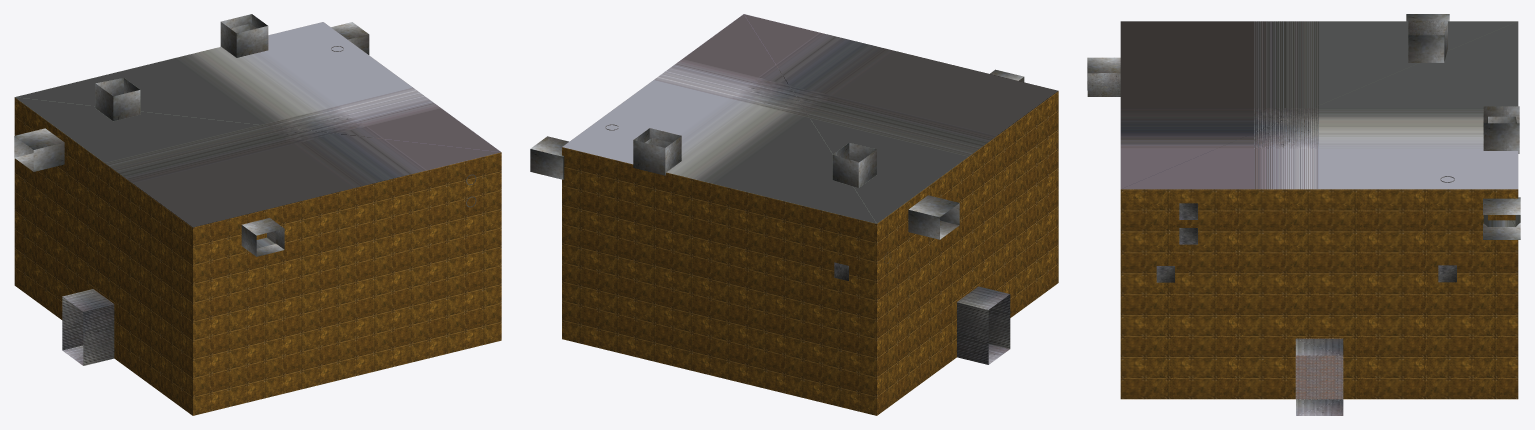
The model's file is room_1.fbx.
3 renders of one model, left to right at view 1: azimuth 30°, elevation 25°; view 2: azimuth 150°, elevation 25°; view 3: azimuth 270°, elevation 25°, orthographic. The views are drawn at different scales.
Visible parts, largest first — view 1: Plane.002, Plane.004, Plane.001, Plane.003; view 2: Plane.002, Plane.004, Plane.001, Plane.003; view 3: Plane.002, Plane.004, Plane.001, Floor1, Plane.005.
Boxes of the visible parts, x1,y1,x2,y2 form: Plane.002: [14, 97, 501, 415]; Plane.004: [15, 22, 500, 227]; Plane.001: [14, 14, 369, 256]; Plane.003: [62, 289, 114, 365]; Plane.002: [562, 91, 1058, 415]; Plane.004: [562, 14, 1058, 223]; Plane.001: [530, 69, 1024, 239]; Plane.003: [957, 286, 1010, 364]; Plane.002: [1120, 189, 1518, 399]; Plane.004: [1120, 21, 1518, 189]; Plane.001: [1087, 14, 1520, 239]; Floor1: [1295, 338, 1343, 399]; Plane.005: [1296, 339, 1343, 415].
Size of the model in its own units: 1201 by 661 by 1090.
